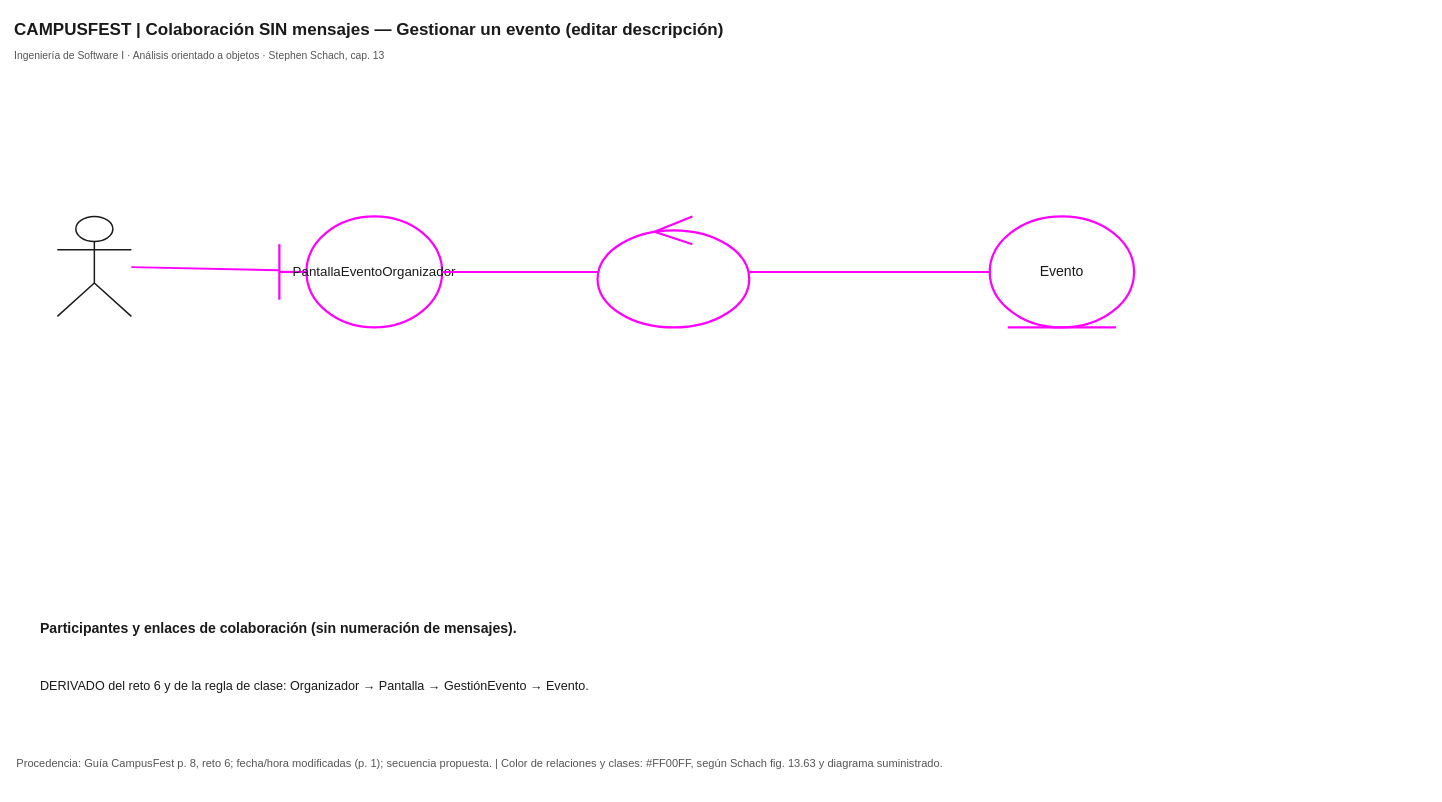
Some shapes in this 1442 by 802 pixel diagram are drawn without their labels. The centre of each missing label's shape, as x and y in pixels:
GestiónEvento: (673,271)
Organizador: (94,266)
